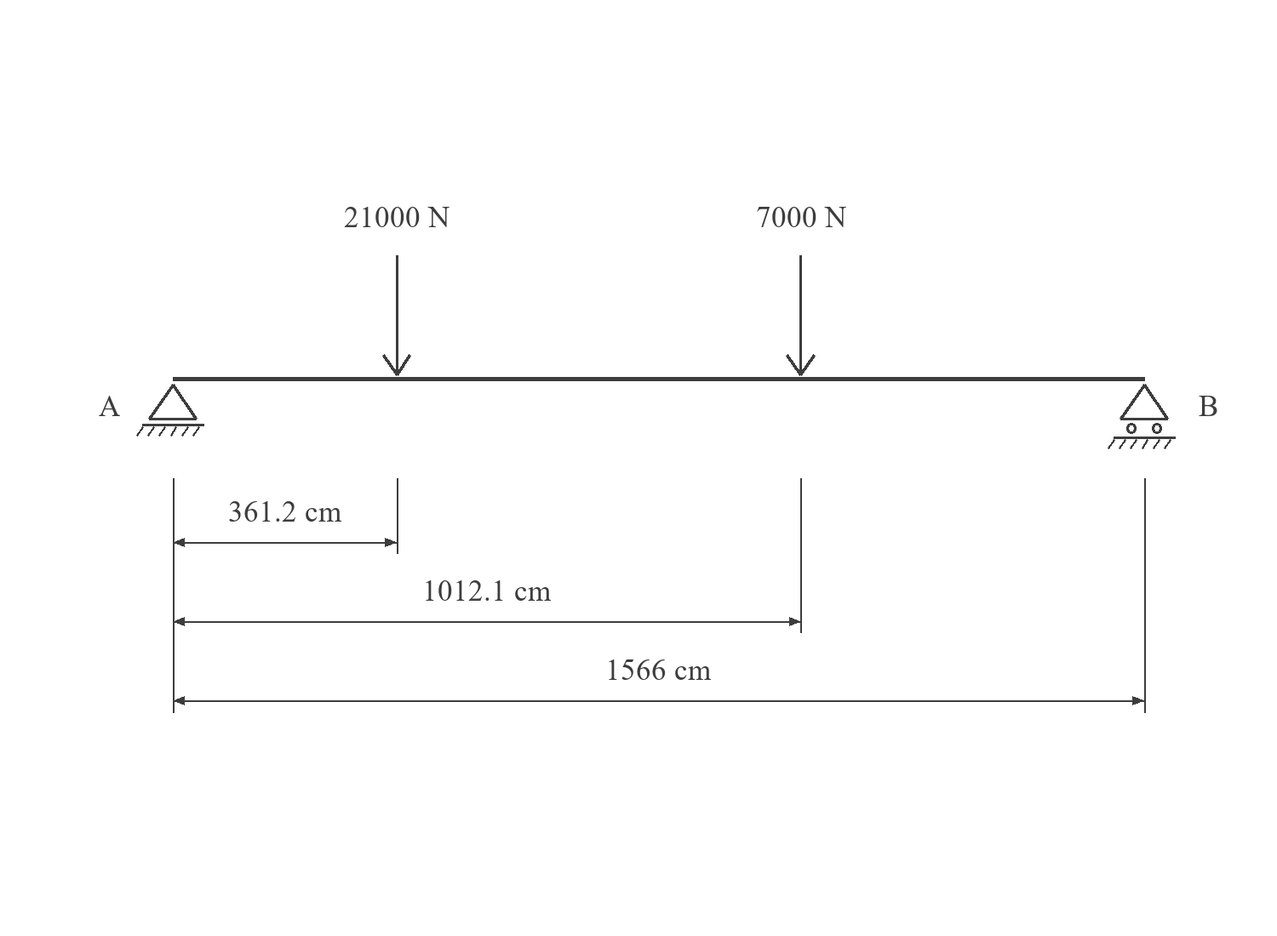pin_support: (136, 384, 204, 437)
point_load: (786, 255, 816, 376), (382, 255, 411, 376)
roller_support: (1108, 384, 1176, 449)
